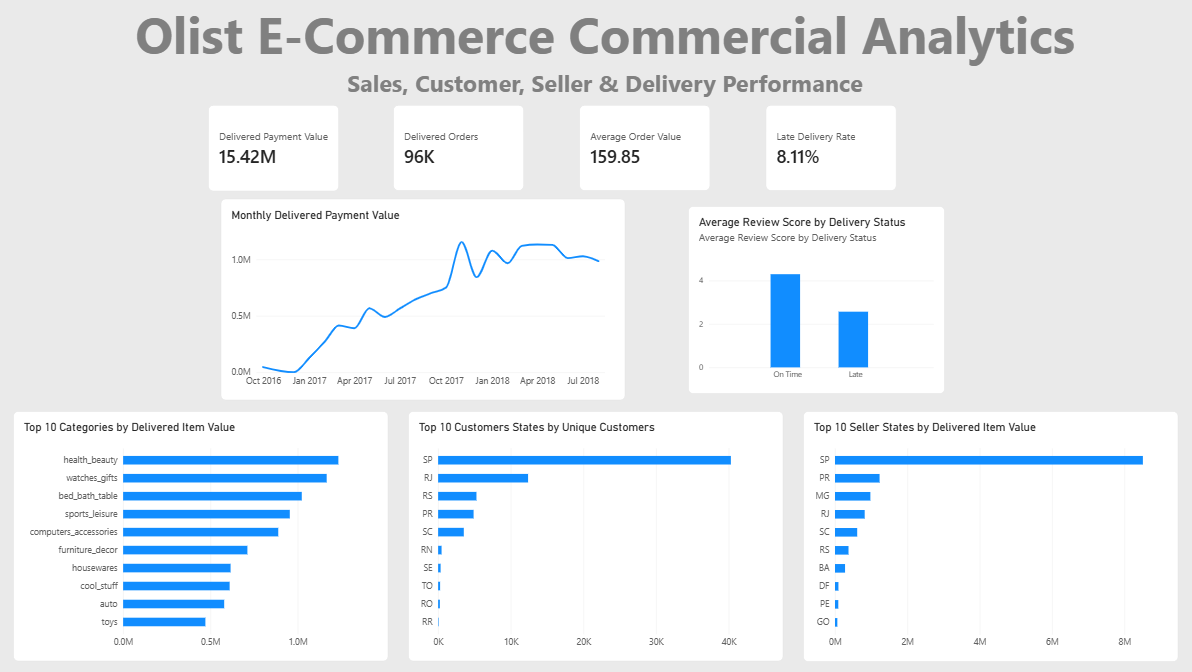

The page's visual inventory and layout, read from the dashboard file:
{"tool":"powerbi","page":{"name":"Page 1","canvas":[1920,1080],"ordinal":0},"visuals":[{"type":"cardVisual","fields":{"Data":["order_summary.Delivered Payment Value"]},"box":[337.5,167.5,209.2,138.7],"z":0},{"type":"cardVisual","fields":{"Data":["order_summary.Delivered Orders"]},"box":[634.7,167.5,209.2,137.9],"z":1000},{"type":"cardVisual","fields":{"Data":["order_summary.Average Order Value"]},"box":[932,167.5,209.2,137.9],"z":2000},{"type":"cardVisual","fields":{"Data":["order_summary.Late Delivery Rate"]},"box":[1229.2,167.5,209.2,137.9],"z":3000},{"type":"lineChart","title":"Monthly Delivered Payment Value","fields":{"Category":["order_summary.Order Month"],"Y":["order_summary.Delivered Payment Value"]},"box":[357.5,317.5,647.5,322.5],"z":4000},{"type":"clusteredColumnChart","title":"Average Review Score by Delivered Item Value","fields":{"Category":["order_summary.Delivery Status"],"Y":["order_summary.Average Review Score"]},"box":[1106.7,330,410,300],"z":5000},{"type":"barChart","title":"Top 10 Categories by Delivered Item Value","fields":{"Category":["sales_detail.category"],"Y":["order_summary.Delivered Item Value"]},"box":[26.7,657.1,600,400],"z":6000},{"type":"clusteredBarChart","title":"Top 10 Customers States by Unique Customers","fields":{"Category":["order_summary.customer_state"],"Y":["order_summary.Unique Customers"]},"box":[658.4,657.1,600,400],"z":7000},{"type":"clusteredBarChart","title":"Top 10 States by Delivered Item Value","fields":{"Category":["sales_detail.seller_state"],"Y":["order_summary.Delivered Item Value"]},"box":[1290.2,657.1,600,400.7],"z":8000},{"type":"textbox","box":[26.7,0,1893.8,162.9],"z":9000}]}

Visuals, with their boxes in screenshot pixels (x1, y1, x2, y2), scaled from the page's 1920x1080 canvas onto the 1192x672 screenshot:
cardVisual - order_summary.Delivered Payment Value: l=210, t=104, r=339, b=191
cardVisual - order_summary.Delivered Orders: l=394, t=104, r=524, b=190
cardVisual - order_summary.Average Order Value: l=579, t=104, r=708, b=190
cardVisual - order_summary.Late Delivery Rate: l=763, t=104, r=893, b=190
"Monthly Delivered Payment Value" lineChart: l=222, t=198, r=624, b=398
"Average Review Score by Delivered Item Value" clusteredColumnChart: l=687, t=205, r=942, b=392
"Top 10 Categories by Delivered Item Value" barChart: l=17, t=409, r=389, b=658
"Top 10 Customers States by Unique Customers" clusteredBarChart: l=409, t=409, r=781, b=658
"Top 10 States by Delivered Item Value" clusteredBarChart: l=801, t=409, r=1173, b=658
textbox: l=17, t=0, r=1191, b=101
